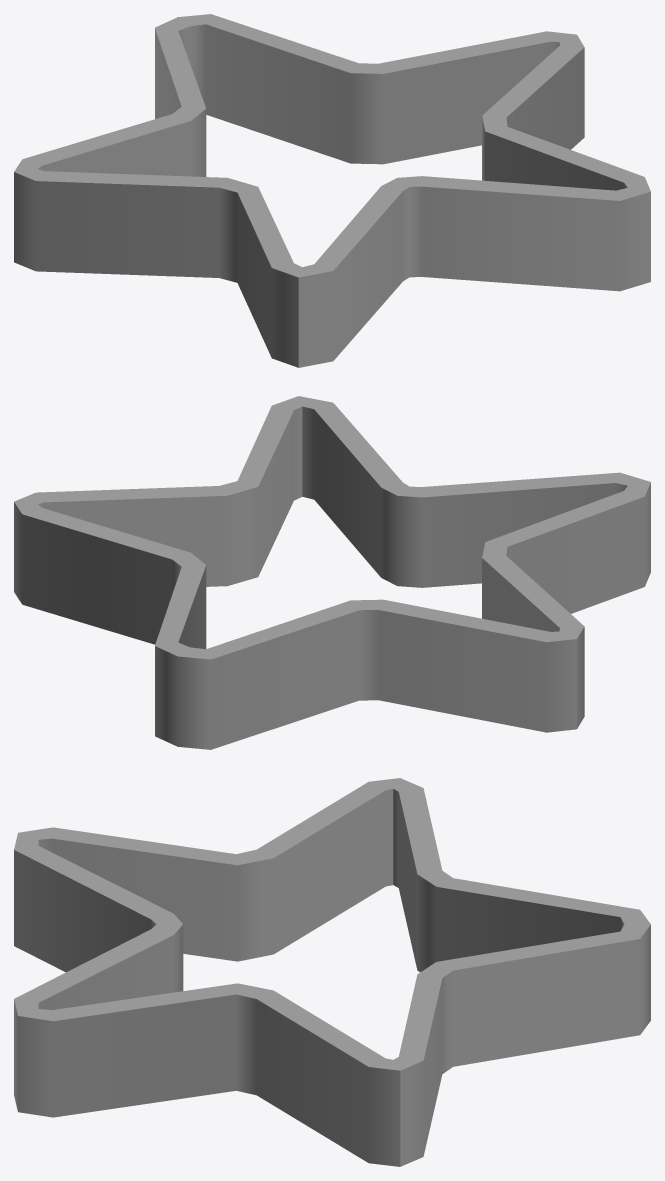
Rendered from BiscuitCutter_Star_01.fbx.
3 renders of one model, top to bottom at view 1: azimuth 30°, elevation 25°; view 2: azimuth 150°, elevation 25°; view 3: azimuth 270°, elevation 25°, orthographic. The views are drawn at different scales.
Parts seen in each view (by area): view 1: BiscuitCutter_Star_01; view 2: BiscuitCutter_Star_01; view 3: BiscuitCutter_Star_01.
Part boxes in pixels (<box>): BiscuitCutter_Star_01: <box>14,14,650,367</box>; BiscuitCutter_Star_01: <box>14,396,650,749</box>; BiscuitCutter_Star_01: <box>14,778,650,1166</box>.
Bounding box in the file's own units: 0.0832 × 0.0128 × 0.0765.
